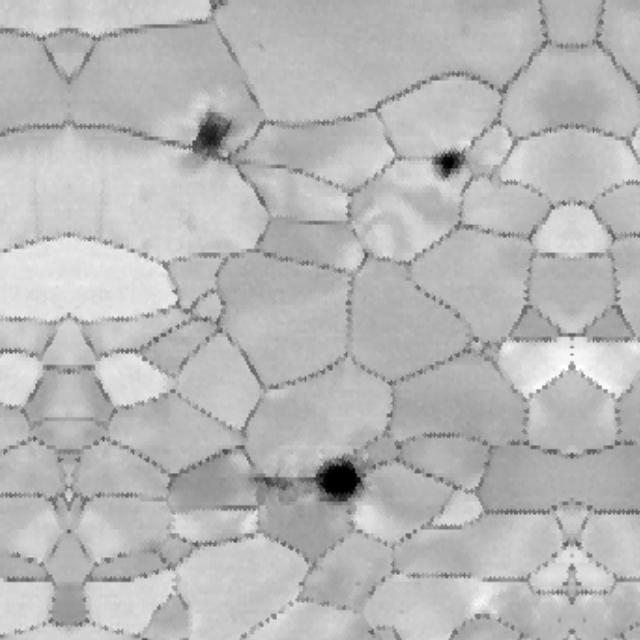good_void: (302, 444, 369, 518), (180, 100, 242, 170), (244, 456, 298, 507), (427, 142, 467, 197)
